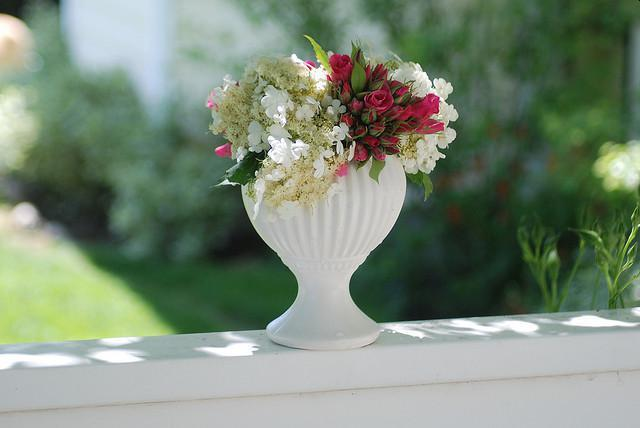flowerPot: (205, 31, 460, 355)
vase: (238, 156, 404, 351)
